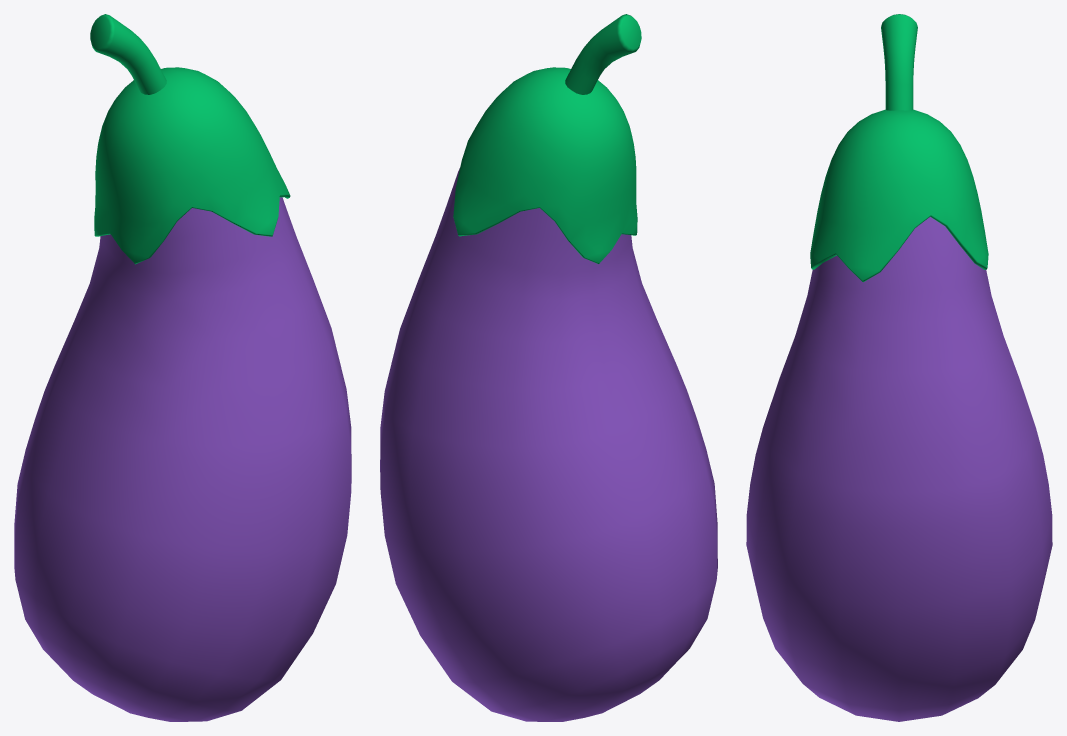
Rendered from Store_19_Eggplant_2.glb.
3 views of the same model, side by side, from view 1: azimuth 30°, elevation 25°; view 2: azimuth 150°, elevation 25°; view 3: azimuth 270°, elevation 25° (orthographic). The views are drawn at different scales.
Parts seen in each view (by area): view 1: Store_19_Eggplant_2; view 2: Store_19_Eggplant_2; view 3: Store_19_Eggplant_2.
Part boxes in pixels (x1,y1,x2,y2): Store_19_Eggplant_2: (14,14,351,721); Store_19_Eggplant_2: (380,14,717,721); Store_19_Eggplant_2: (746,14,1052,721).
Size of the model in its own units: 0.1978 by 0.4561 by 0.1903.
1 material, 1 textured.
